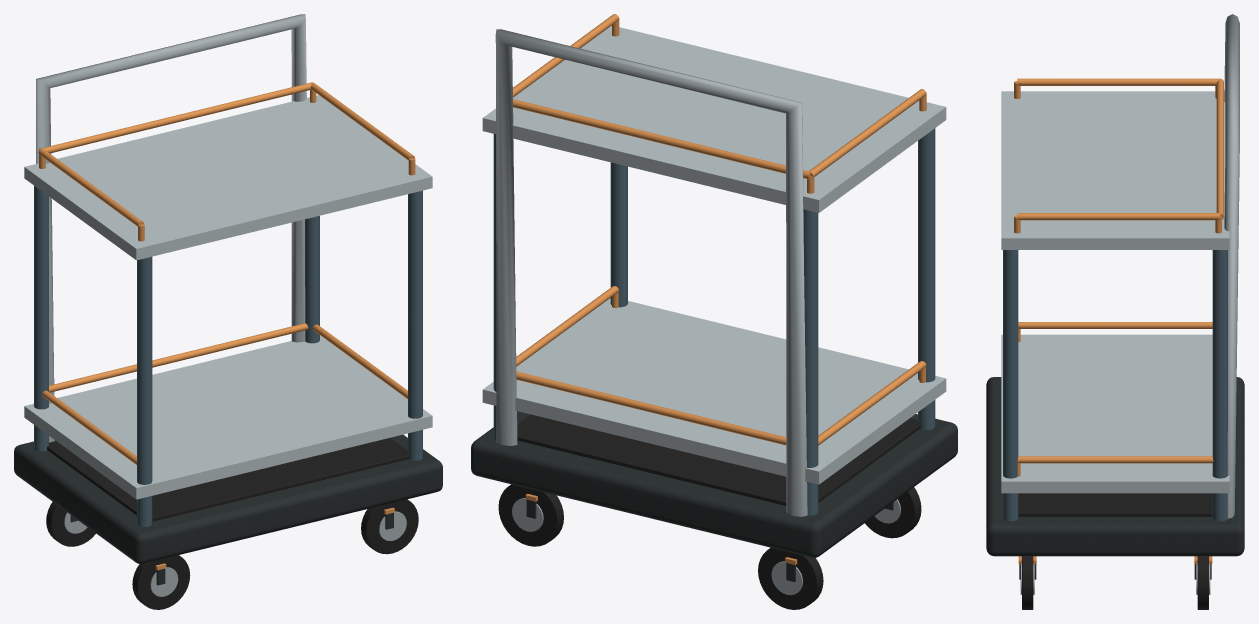
3 renders of one model, left to right at view 1: azimuth 30°, elevation 25°; view 2: azimuth 150°, elevation 25°; view 3: azimuth 270°, elevation 25°, orthographic. The views are drawn at different scales.
Parts seen in each view (by area): view 1: cart-upper-deck, cart-lower-deck, Platform cart deck, Folding cart push handle, Load deck traction surface, tubular-post--0.308-0.203, tubular-post-0.308-0.203, tubular-post--0.308--0.203, upper-rear-rail, lower-rear-rail, tubular-post-0.308--0.203, wheel-left-front (+6 smaller); view 2: cart-lower-deck, cart-upper-deck, Platform cart deck, Folding cart push handle, Load deck traction surface, tubular-post--0.308-0.203, tubular-post--0.308--0.203, upper-rear-rail, tubular-post-0.308-0.203, lower-rear-rail, wheel-right-rear, wheel-left-rear (+8 smaller); view 3: cart-upper-deck, cart-lower-deck, Platform cart deck, Folding cart push handle, Load deck traction surface, tubular-post-0.308--0.203, tubular-post-0.308-0.203, upper-side-rail-0.308, upper-side-rail--0.308, lower-side-rail-0.308, lower-side-rail--0.308, upper-rear-rail (+2 smaller).
Part boxes in pixels (x1,y1,x2,y2): cart-upper-deck: [24, 95, 432, 260]; cart-lower-deck: [24, 335, 432, 499]; Platform cart deck: [14, 434, 442, 563]; Folding cart push handle: [36, 14, 306, 442]; Load deck traction surface: [47, 437, 408, 521]; tubular-post--0.308-0.203: [137, 256, 152, 526]; tubular-post-0.308-0.203: [408, 190, 422, 460]; tubular-post--0.308--0.203: [34, 186, 48, 451]; upper-rear-rail: [39, 82, 313, 153]; lower-rear-rail: [49, 323, 308, 392]; tubular-post-0.308--0.203: [305, 215, 319, 343]; wheel-left-front: [132, 555, 190, 609]; cart-lower-deck: [482, 298, 946, 484]; cart-upper-deck: [482, 25, 946, 212]; Platform cart deck: [471, 411, 957, 557]; Folding cart push handle: [495, 29, 807, 516]; Load deck traction surface: [517, 414, 920, 505]; tubular-post--0.308-0.203: [918, 128, 935, 429]; tubular-post--0.308--0.203: [803, 209, 818, 515]; upper-rear-rail: [513, 99, 810, 179]; tubular-post-0.308-0.203: [610, 162, 627, 307]; lower-rear-rail: [516, 371, 786, 445]; wheel-right-rear: [498, 484, 563, 546]; wheel-left-rear: [758, 547, 823, 609]; cart-upper-deck: [1001, 91, 1229, 249]; cart-lower-deck: [1001, 334, 1229, 493]; Platform cart deck: [986, 377, 1244, 556]; Folding cart push handle: [1224, 14, 1239, 518]; Load deck traction surface: [1018, 493, 1212, 516]; tubular-post-0.308--0.203: [1212, 250, 1227, 521]; tubular-post-0.308-0.203: [1003, 250, 1018, 521]; upper-side-rail-0.308: [1017, 213, 1220, 220]; upper-side-rail--0.308: [1017, 78, 1219, 85]; lower-side-rail-0.308: [1017, 456, 1213, 463]; lower-side-rail--0.308: [1018, 322, 1212, 328]; upper-rear-rail: [1216, 78, 1223, 219].
Bounding box in the file's own units: 0.7 × 1 × 0.5.
6 materials, 3 textured.
